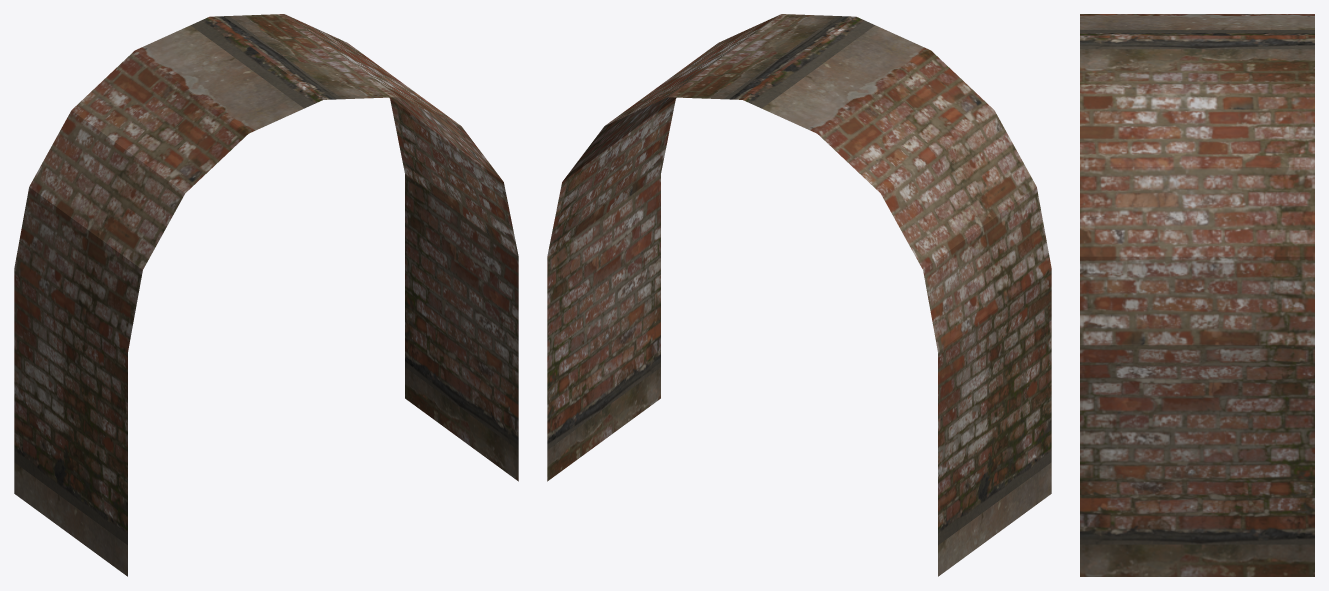
The model's file is tunnel_Wall3_GEO.fbx.
3 renders of one model, left to right at view 1: azimuth 30°, elevation 25°; view 2: azimuth 150°, elevation 25°; view 3: azimuth 270°, elevation 25°, orthographic. The views are drawn at different scales.
Visible parts, largest first — view 1: tunnel_Wall3_GEO; view 2: tunnel_Wall3_GEO; view 3: tunnel_Wall3_GEO.
Part boxes in pixels (bbox=[...]): tunnel_Wall3_GEO: bbox=[14, 14, 518, 576]; tunnel_Wall3_GEO: bbox=[547, 14, 1051, 576]; tunnel_Wall3_GEO: bbox=[1080, 14, 1314, 576].
Size of the model in its own units: 5 by 5.25 by 2.52.
